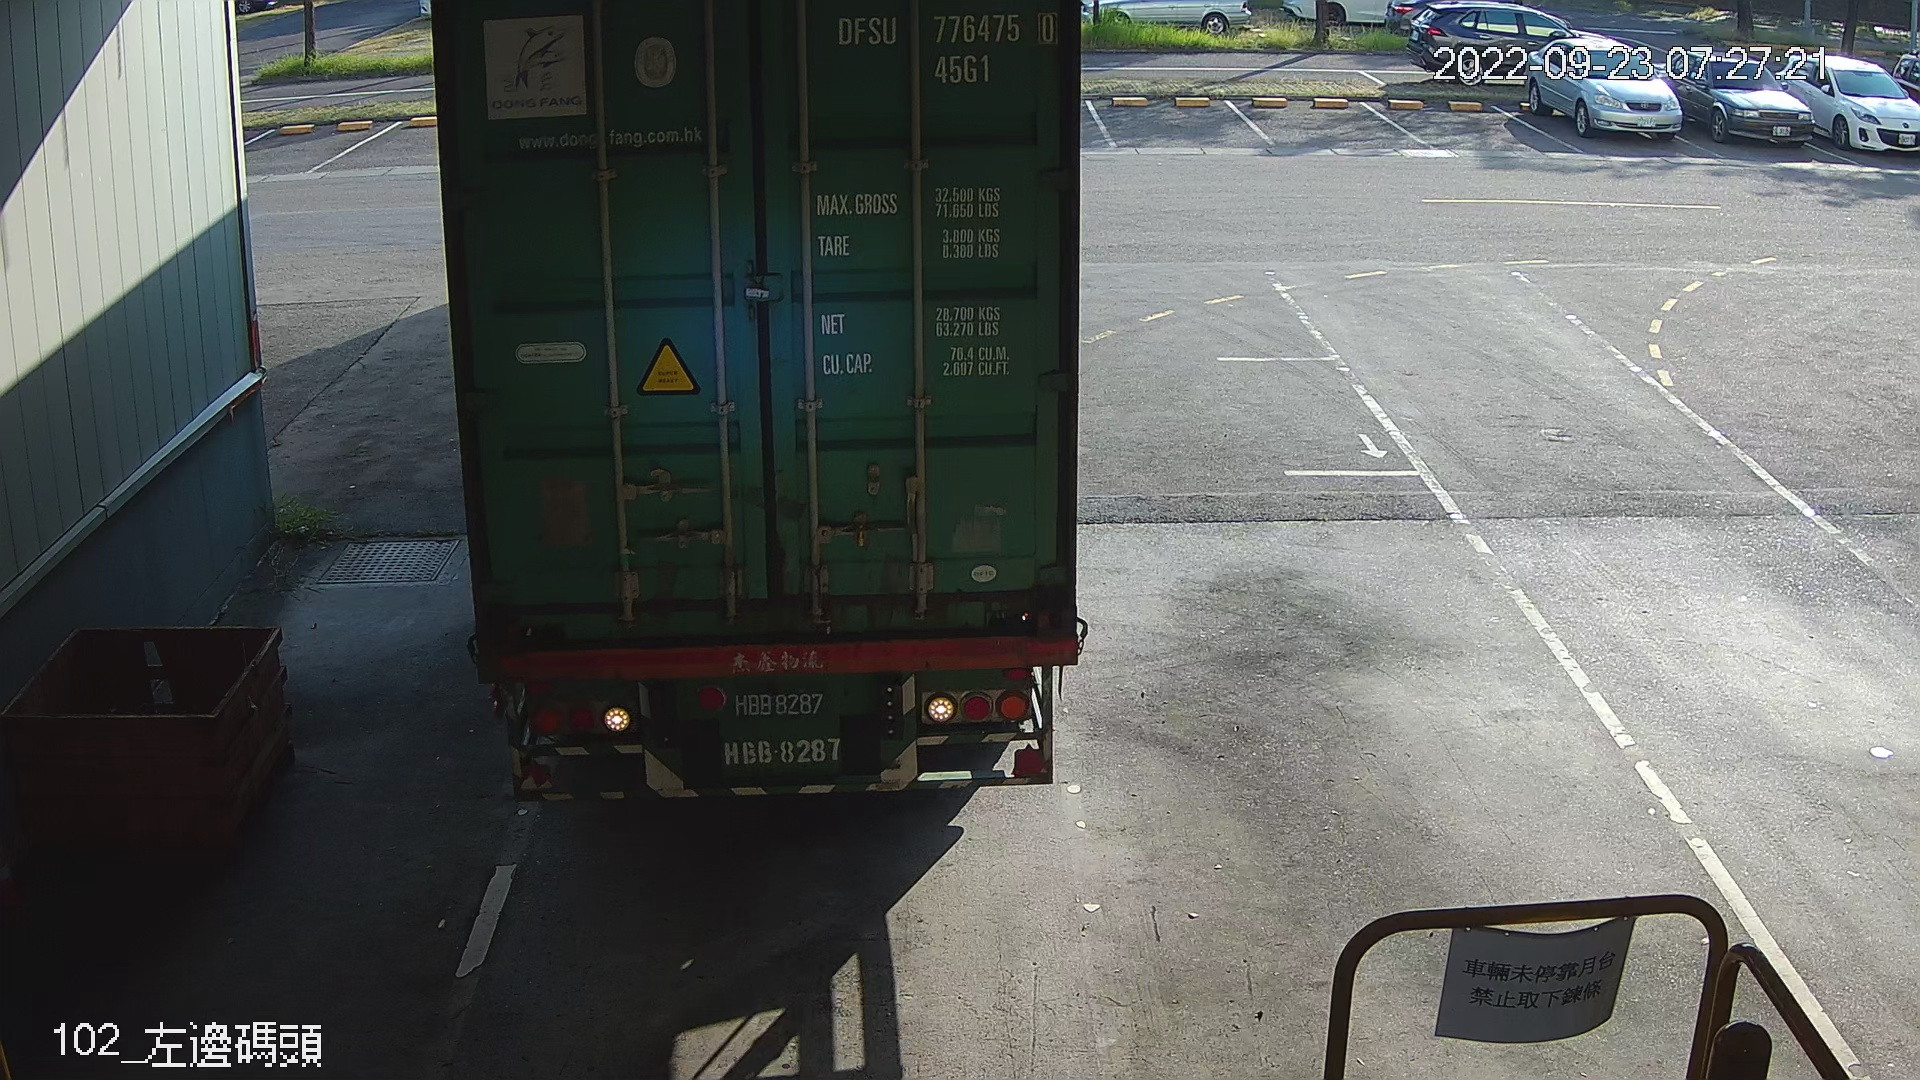container: (825, 8, 1064, 90)
